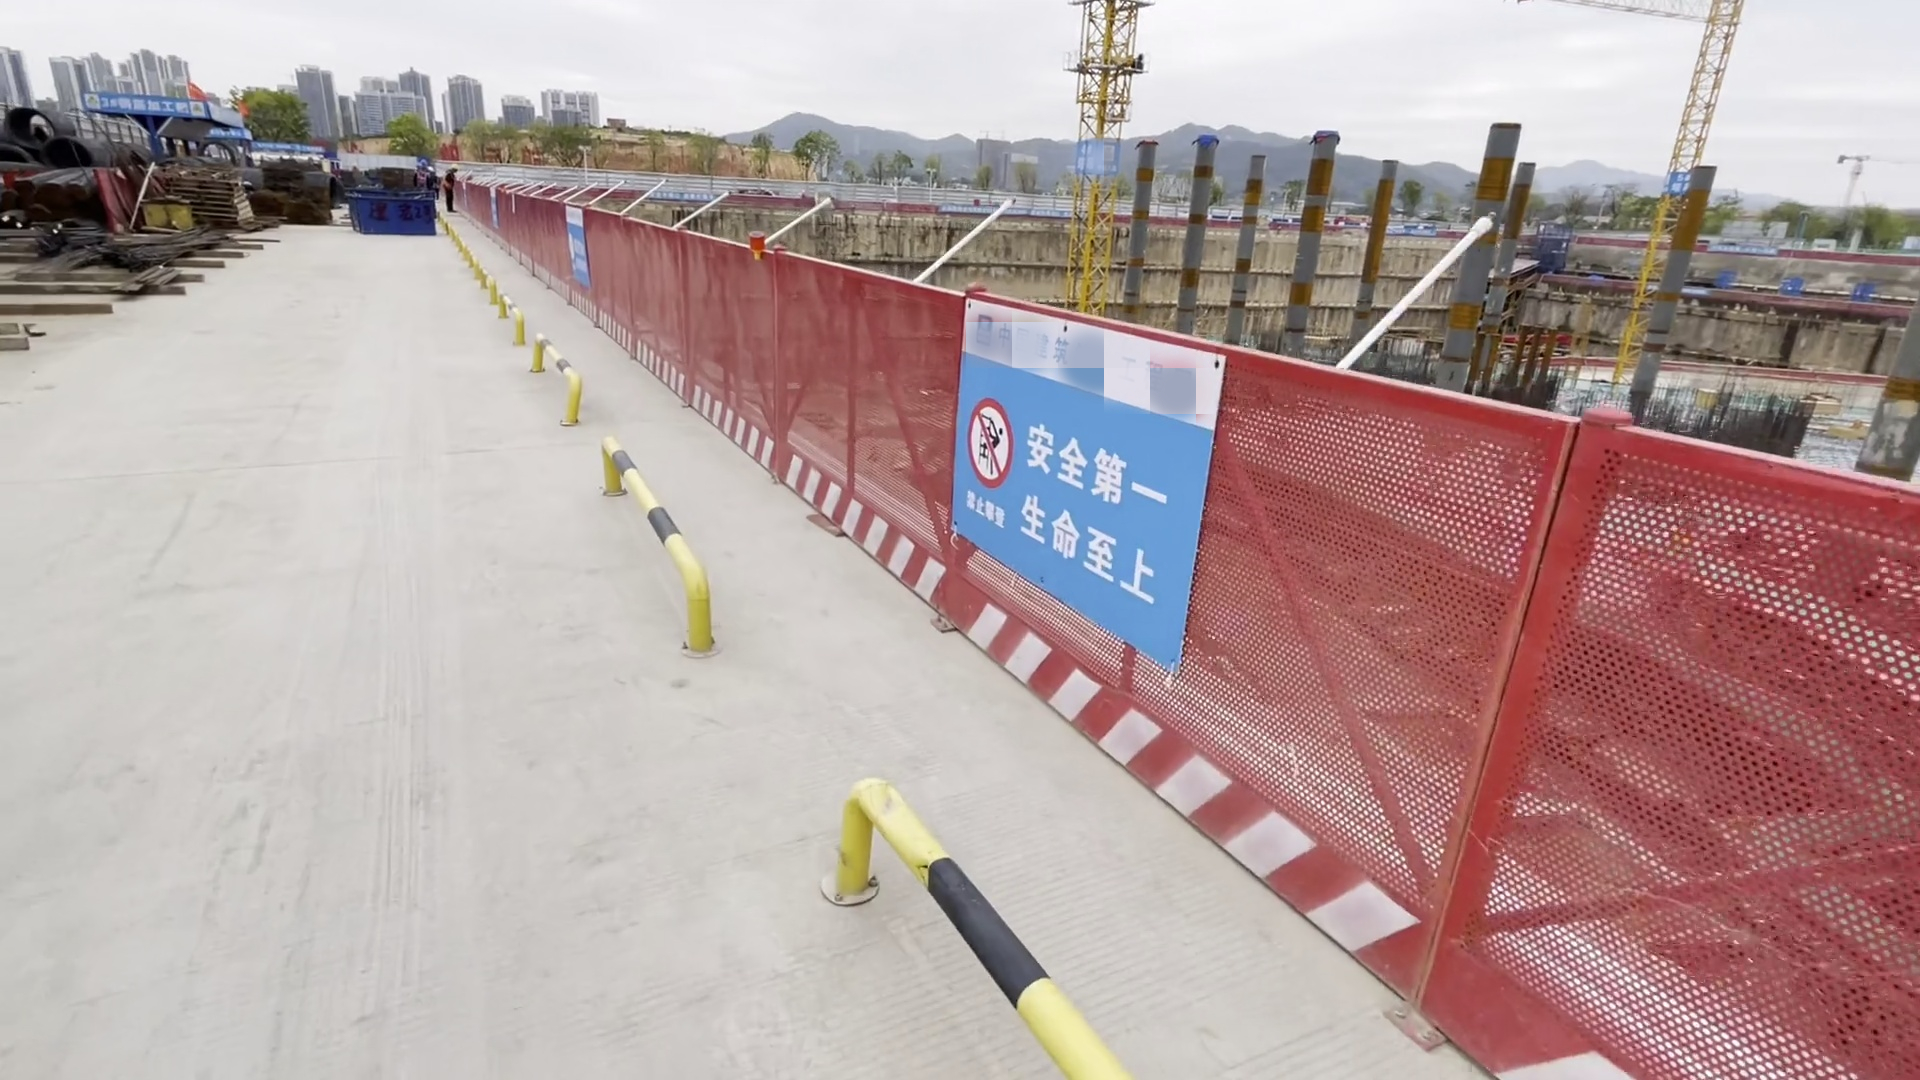fence: (1164, 332, 1920, 1040), (463, 168, 959, 592)
hopper: (344, 185, 434, 232)
person: (440, 162, 461, 213)
rebar: (112, 230, 236, 304), (1, 175, 101, 236)
slogan: (939, 305, 1229, 664)
